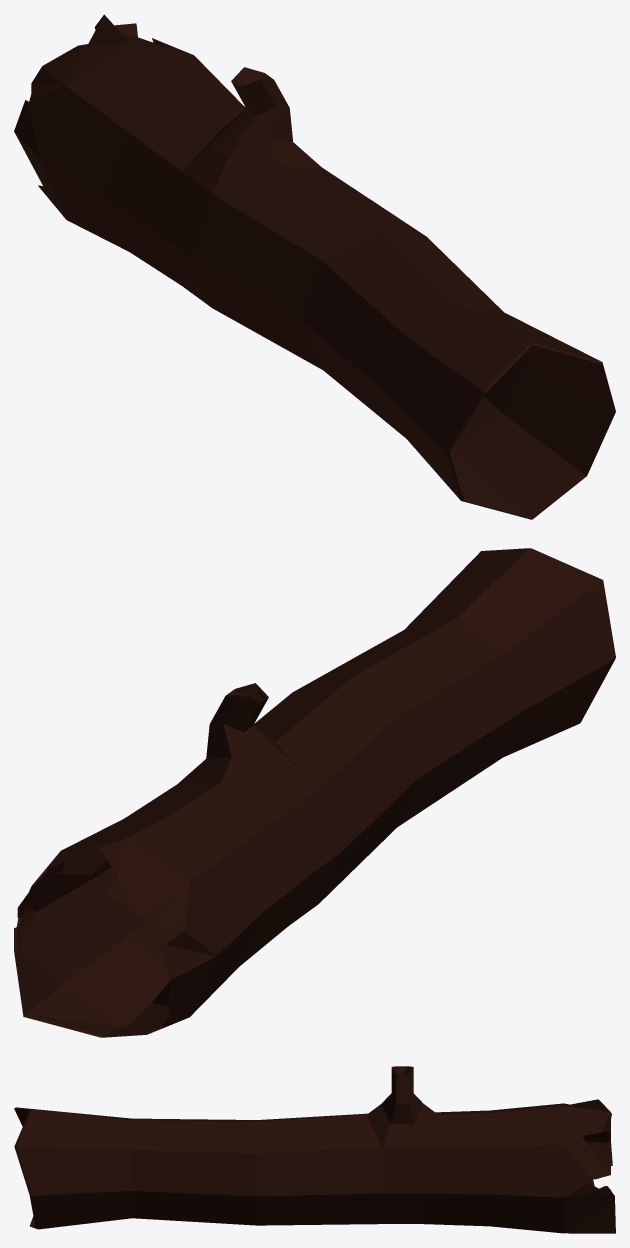
Rendered from trunk.obj.
3 views of the same model, one above another, from view 1: azimuth 30°, elevation 25°; view 2: azimuth 150°, elevation 25°; view 3: azimuth 270°, elevation 25° (orthographic). The views are drawn at different scales.
Visible parts, largest first — view 1: trunck_Cylinder.009; view 2: trunck_Cylinder.009; view 3: trunck_Cylinder.009.
Boxes of the visible parts, bbox=[...] form: trunck_Cylinder.009: bbox=[14, 14, 615, 519]; trunck_Cylinder.009: bbox=[14, 548, 615, 1037]; trunck_Cylinder.009: bbox=[14, 1066, 615, 1233].
Bounding box in the file's own units: 1.53 × 2 × 6.64.
